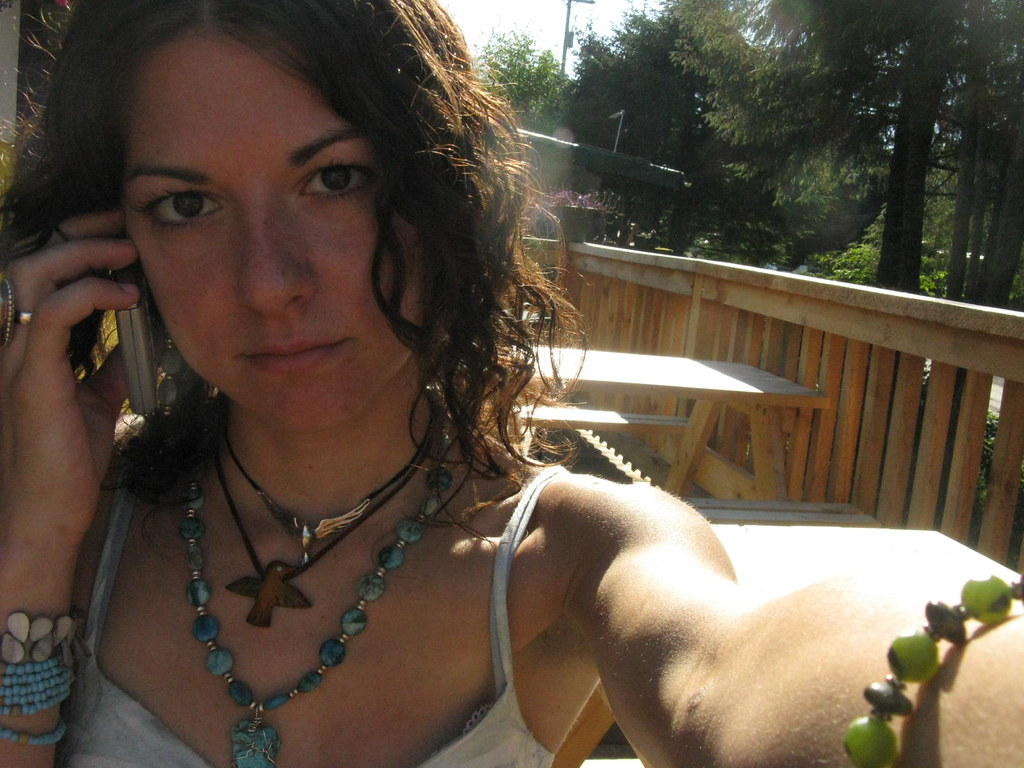phone: (70, 218, 183, 439)
talk: (1, 105, 404, 580)
